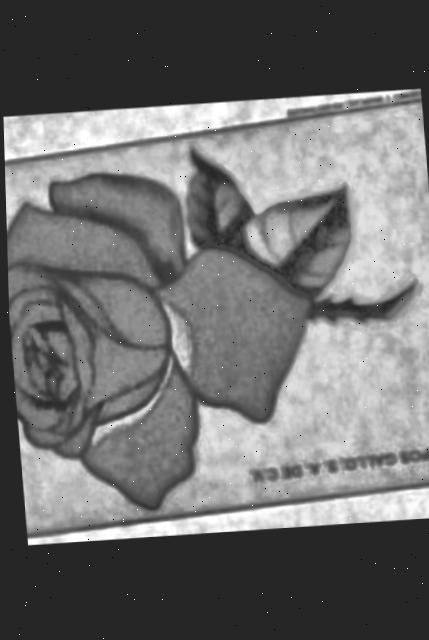La Rosa: (4, 100, 429, 526)
